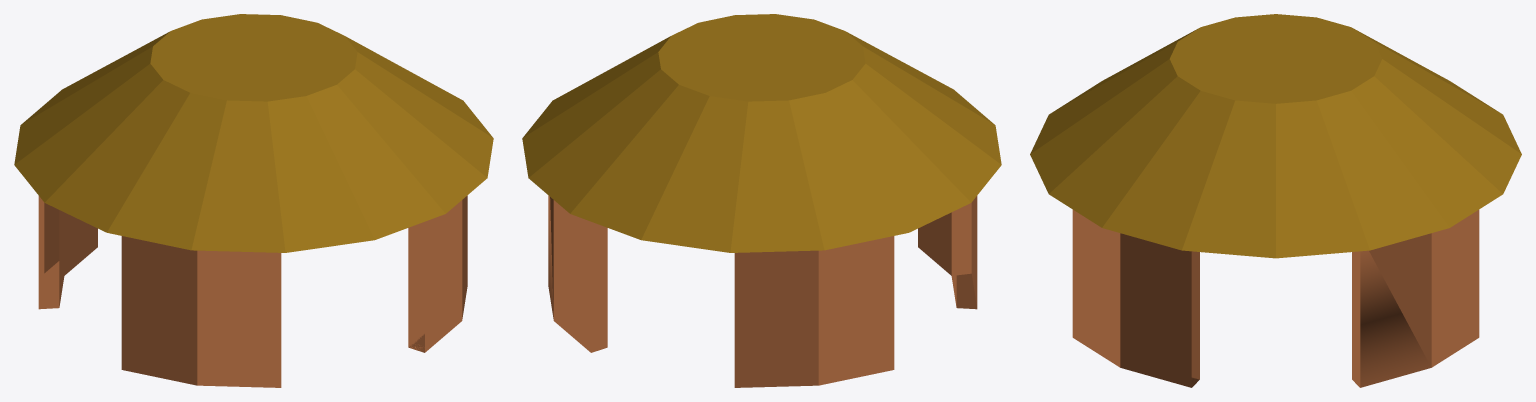
Rendered from beach_hut2.fbx.
The picture shows the model from 3 angles, left to right: view 1: azimuth 30°, elevation 25°; view 2: azimuth 150°, elevation 25°; view 3: azimuth 270°, elevation 25°; orthographic projection.
Visible parts, largest first — view 1: Cone, Tube; view 2: Cone, Tube; view 3: Cone, Tube.
Boxes of the visible parts, bbox=[...] form: Cone: bbox=[14, 14, 493, 252]; Tube: bbox=[38, 195, 467, 387]; Cone: bbox=[522, 14, 1001, 252]; Tube: bbox=[548, 195, 977, 387]; Cone: bbox=[1030, 14, 1521, 258]; Tube: bbox=[1072, 210, 1479, 387].
Size of the model in its own units: 532 by 291 by 532.
